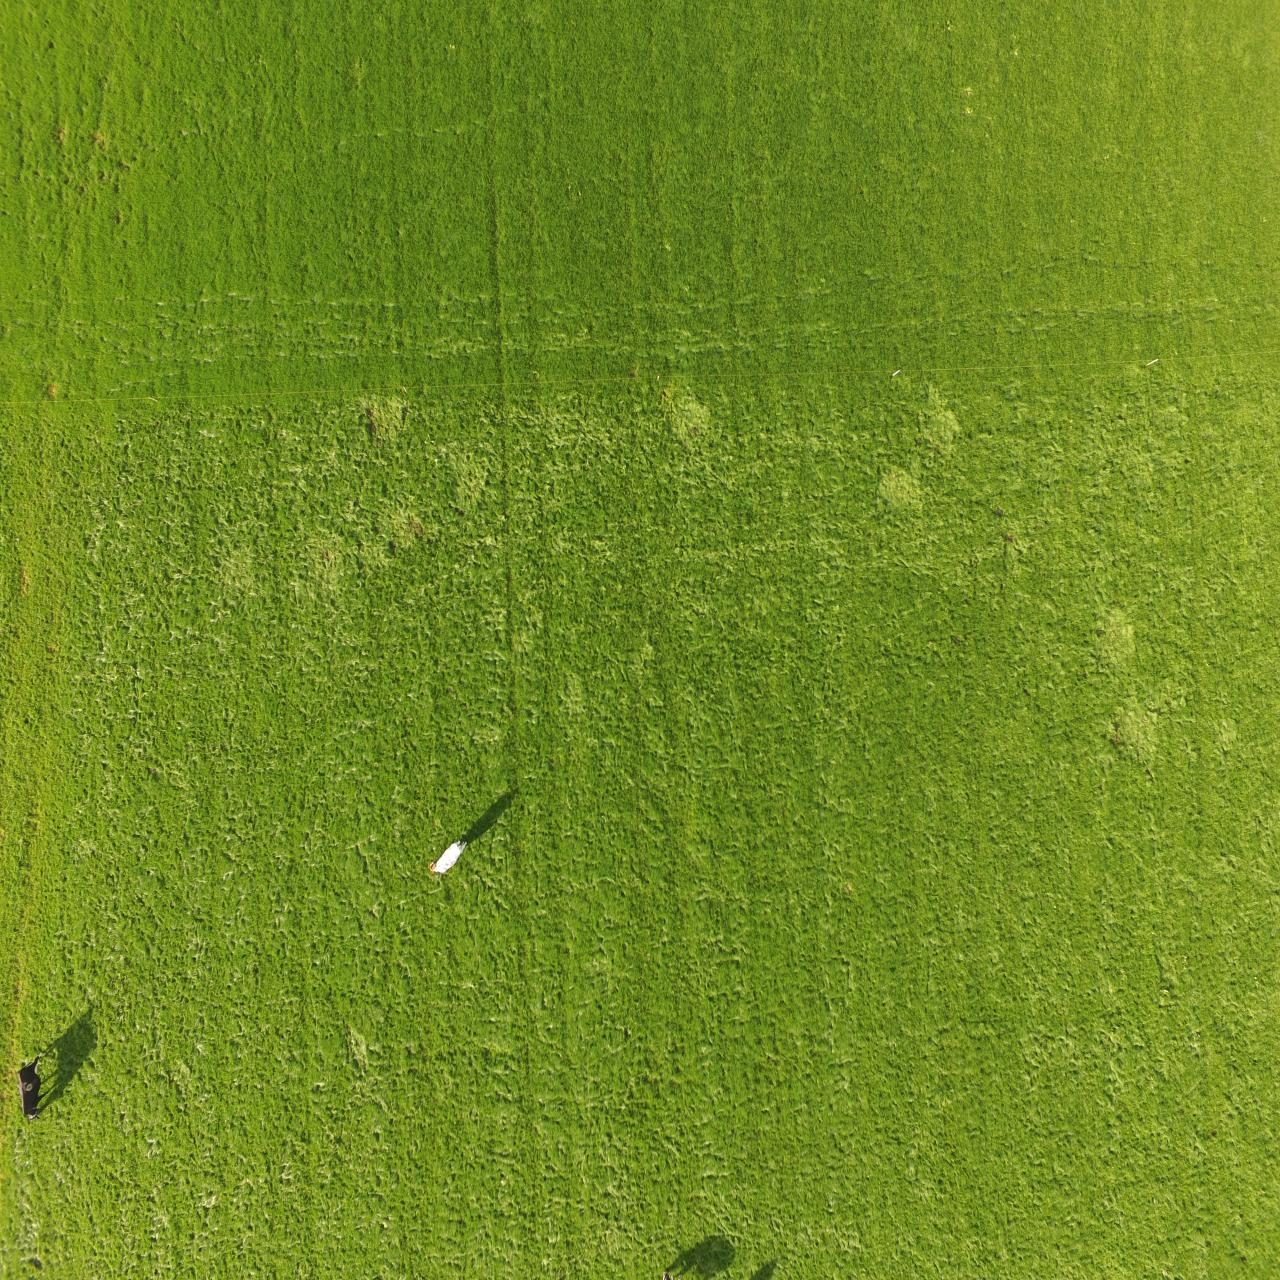cow: (16, 1049, 48, 1122), (428, 839, 468, 877)
